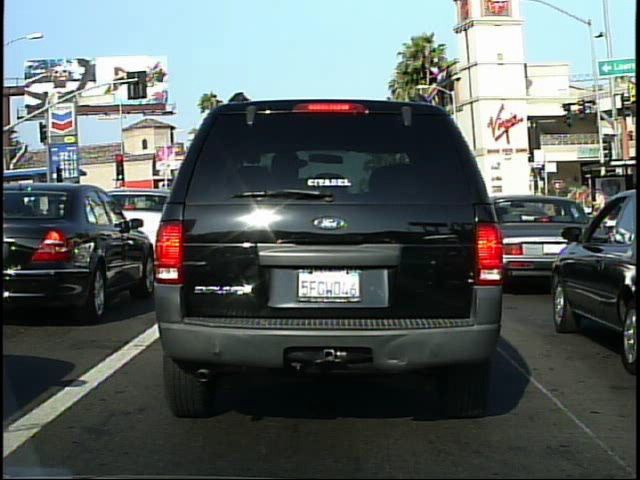person: (589, 182, 611, 242)
